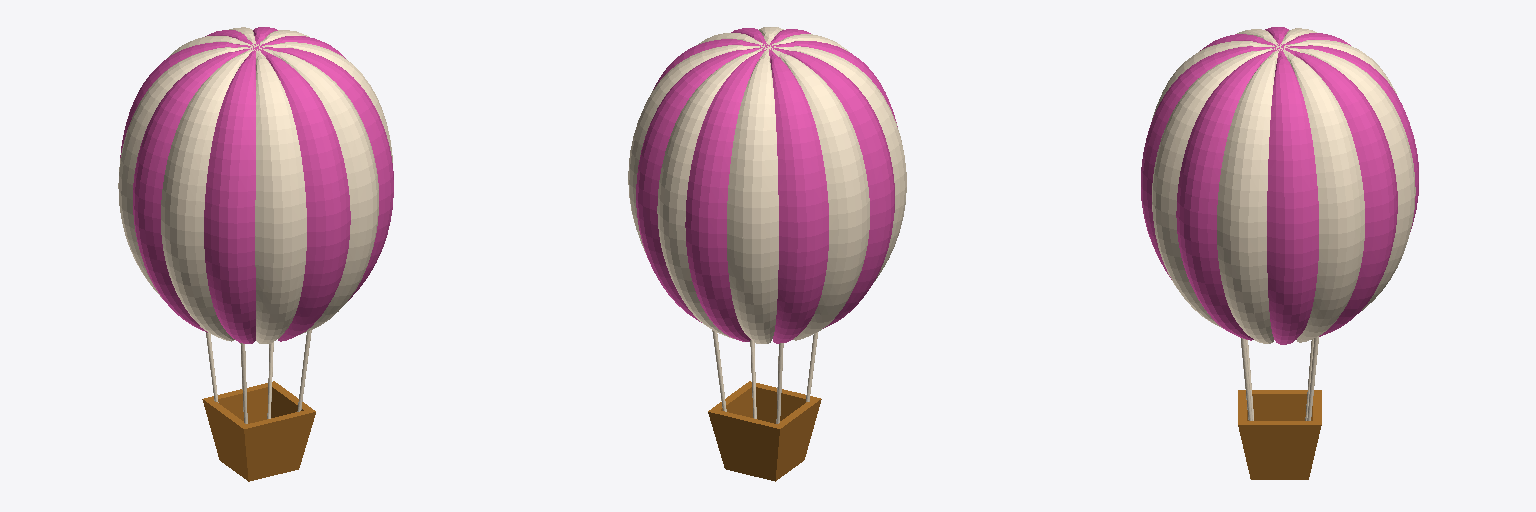
The picture shows the model from 3 angles: view 1: azimuth 30°, elevation 25°; view 2: azimuth 150°, elevation 25°; view 3: azimuth 270°, elevation 25°; orthographic projection.
Parts seen in each view (by area): view 1: 球.001; view 2: 球.001; view 3: 球.001.
Part boxes in pixels (x1,y1,x2,y2): 球.001: (118,27,393,481); 球.001: (628,27,906,481); 球.001: (1141,27,1418,479).
Bounding box in the file's own units: 2.08 × 3.45 × 2.08.
1 materials, 1 textured.